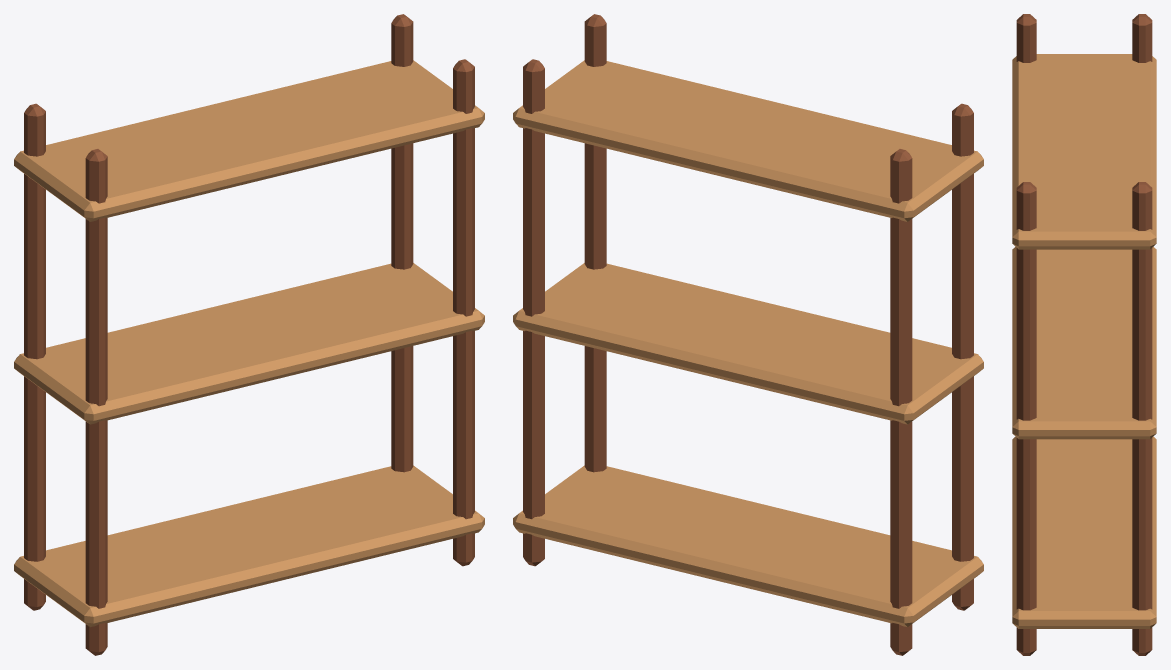
Rendered from market_03_Plant_Shelf.glb.
3 renders of one model, left to right at view 1: azimuth 30°, elevation 25°; view 2: azimuth 150°, elevation 25°; view 3: azimuth 270°, elevation 25°, orthographic. The views are drawn at different scales.
Visible parts, largest first — view 1: 03_Plant_Shelf; view 2: 03_Plant_Shelf; view 3: 03_Plant_Shelf.
Boxes of the visible parts, x1,y1,x2,y2 form: 03_Plant_Shelf: (14, 14, 484, 655); 03_Plant_Shelf: (513, 14, 983, 655); 03_Plant_Shelf: (1012, 14, 1156, 655).
Bounding box in the file's own units: 1.2 × 1.44 × 0.4.
